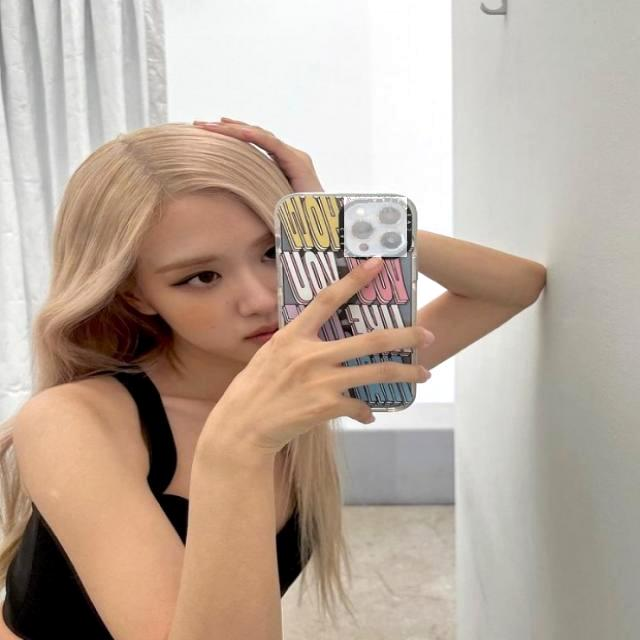lens_back: (379, 228, 408, 257), (347, 218, 377, 242), (376, 203, 402, 228)
phone: (277, 186, 423, 412)
